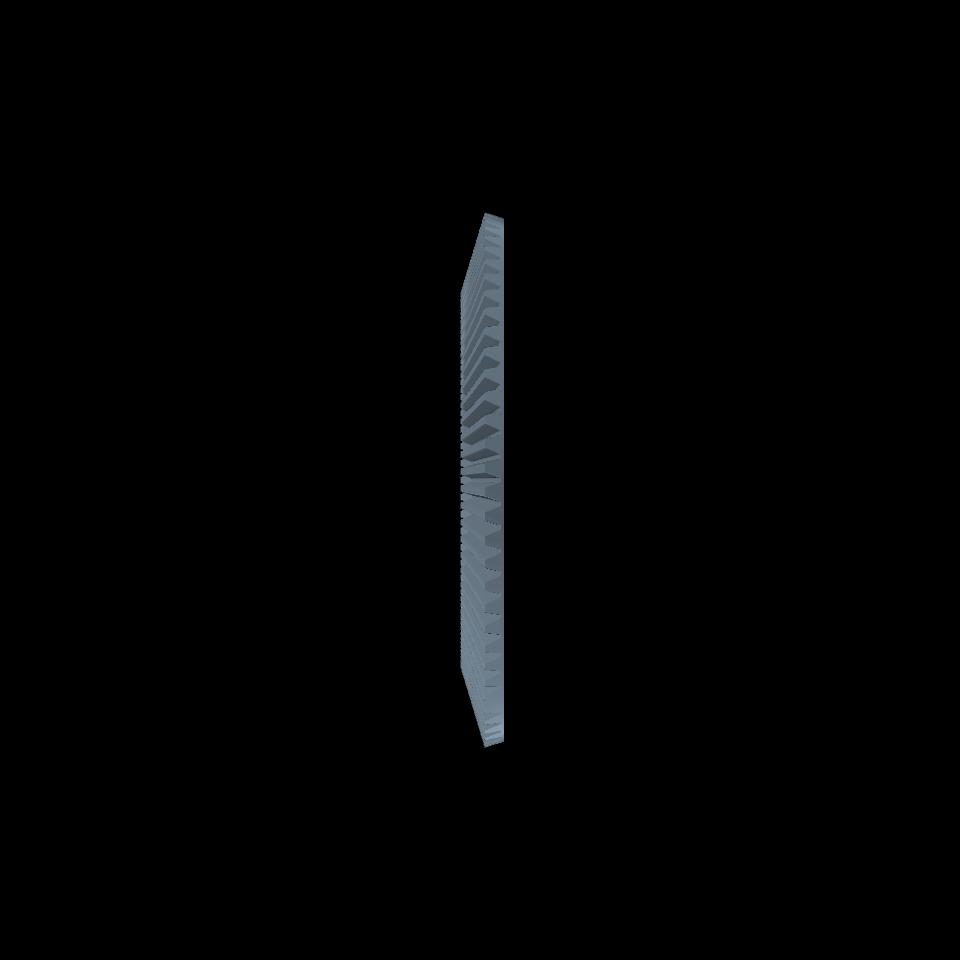Bevel: (461, 213, 506, 748)
